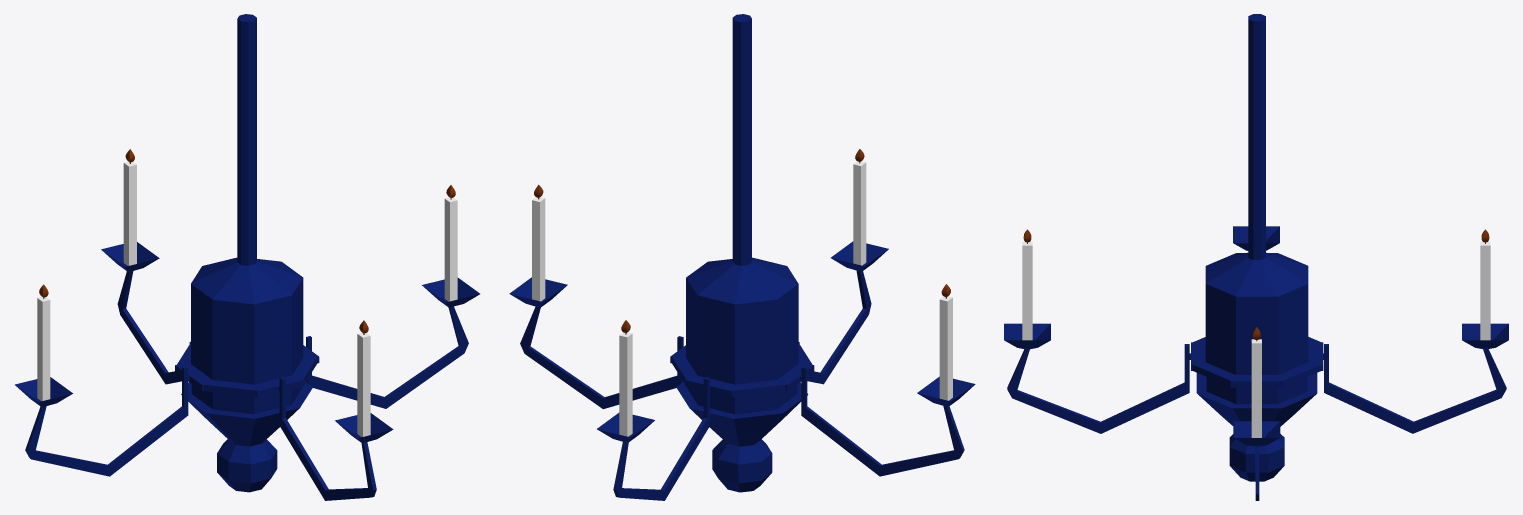
The model's file is Candelabro.fbx.
3 renders of one model, left to right at view 1: azimuth 30°, elevation 25°; view 2: azimuth 150°, elevation 25°; view 3: azimuth 270°, elevation 25°, orthographic. The views are drawn at different scales.
Visible parts, largest first — view 1: Object003; view 2: Object003; view 3: Object003.
Part boxes in pixels (box(x1,y1,x2,y2)): Object003: box(15, 14, 479, 500); Object003: box(509, 14, 975, 500); Object003: box(1004, 14, 1508, 500).
Size of the model in its own units: 31.76 by 31.99 by 32.03.
